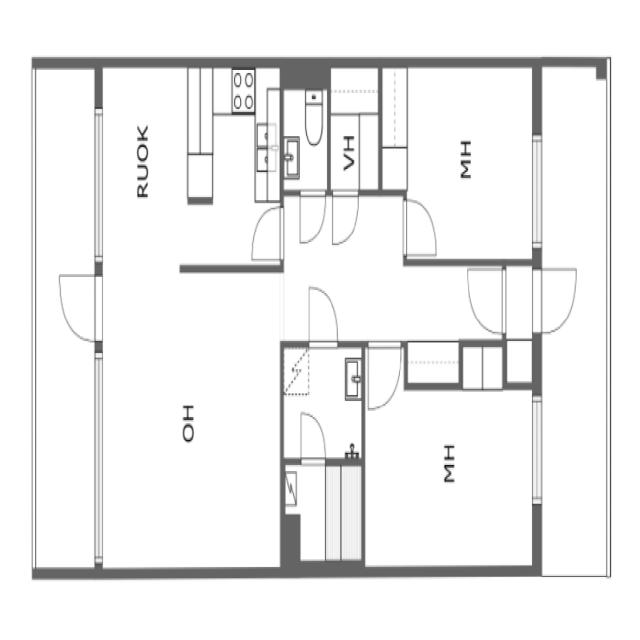door: (286, 345, 366, 469), (310, 206, 352, 358), (294, 183, 368, 251), (52, 260, 104, 348), (529, 255, 581, 339), (462, 256, 509, 343), (363, 337, 406, 415), (399, 188, 442, 263), (302, 276, 343, 354), (248, 201, 285, 263), (295, 404, 330, 469), (328, 186, 362, 252), (296, 185, 329, 251)
window: (89, 344, 105, 568), (90, 96, 108, 268), (528, 122, 548, 258), (528, 386, 547, 519)
zone: (99, 267, 281, 576), (362, 348, 538, 580), (384, 61, 536, 262), (150, 67, 290, 271), (279, 337, 364, 467), (282, 460, 366, 571), (329, 70, 382, 190), (282, 76, 329, 193)
